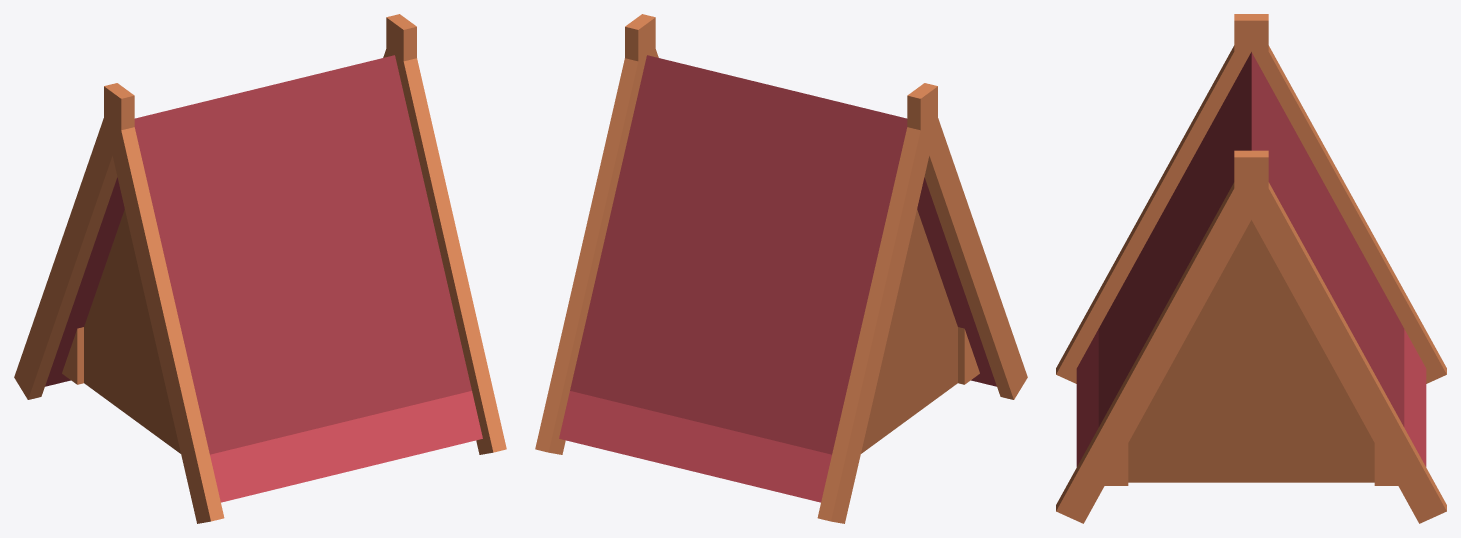
Rendered from roofHighGableDetail.obj.
The picture shows the model from 3 angles, left to right: view 1: azimuth 30°, elevation 25°; view 2: azimuth 150°, elevation 25°; view 3: azimuth 270°, elevation 25°; orthographic projection.
Parts seen in each view (by area): view 1: roofHighGableDetail; view 2: roofHighGableDetail; view 3: roofHighGableDetail.
Part boxes in pixels (bbox=[...]): roofHighGableDetail: bbox=[14, 14, 506, 523]; roofHighGableDetail: bbox=[535, 14, 1027, 523]; roofHighGableDetail: bbox=[1056, 14, 1446, 523].
Bounding box in the file's own units: 1.1 × 1.31 × 1.27.
